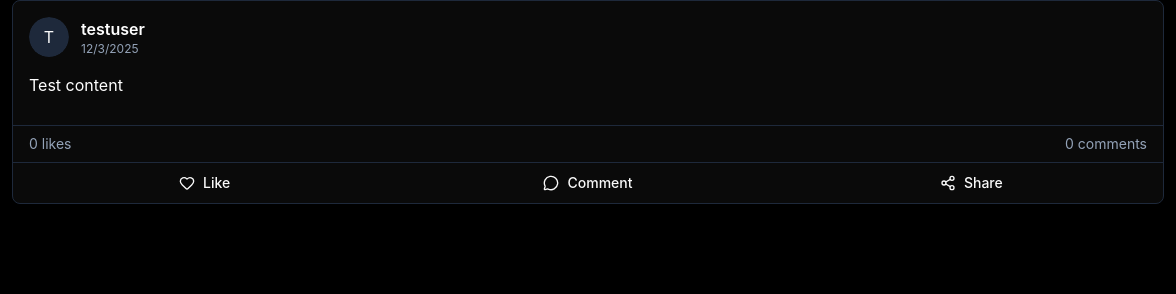
Test: PostCard Component › toggles comment section
The image size is (1176, 294).
Check: the field with placeholder "Write a comment..." is not shown
What coordinates should you click on to do the following:
click the button "Comment"
I would click on:
 (588, 183)
Its box is [396, 163, 780, 203].
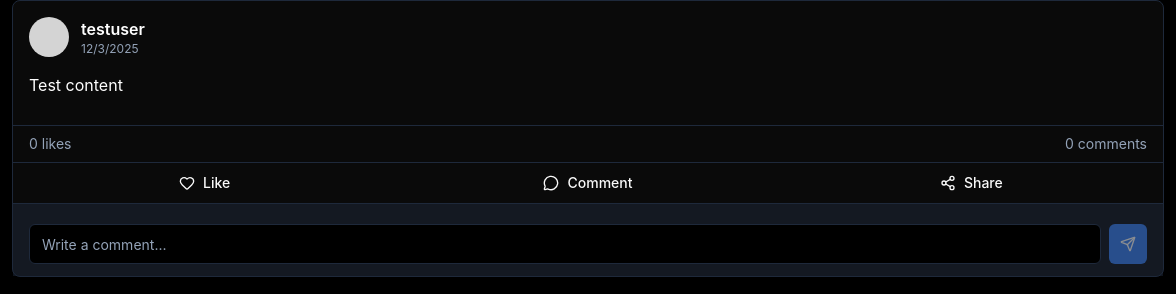
Check: the field with placeholder "Write a comment..." is shown, box [29, 224, 1101, 264]
